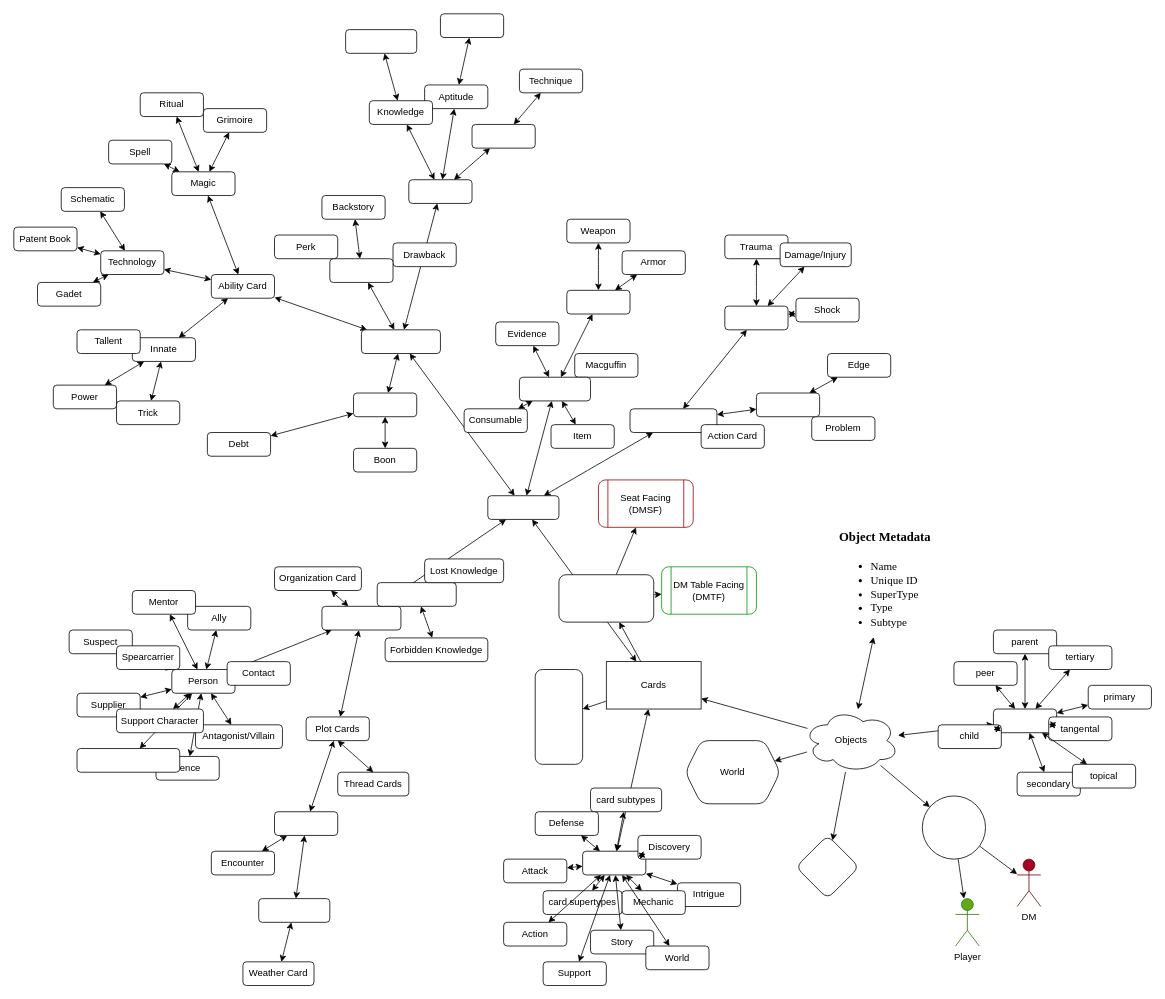
Image size: 1165x999. Some labels were removed from this diagram. Each missing label, with the centre of its shape:
Actor: point (954, 827)
Campaign Card: point (361, 618)
card types: point (614, 862)
Cards to Build: point (523, 507)
Character Cards: point (400, 341)
Consequence Card: point (756, 317)
Detail: point (361, 270)
Discovery Card: point (416, 594)
DM Cards: point (606, 598)
Equipment: point (598, 302)
Expertise: point (503, 136)
Knack: point (472, 25)
Location Card: point (294, 910)
Mechanics: point (827, 867)
Mechanics Cards: point (673, 420)
Object Cards: point (555, 388)
Player Cards: point (558, 716)
Reaction Card: point (788, 404)
relationships: point (1025, 720)
Scene: point (306, 823)
Secondary Character: point (128, 760)
Skill Card: point (440, 191)
Social Card: point (385, 404)
Understanding: point (381, 41)
